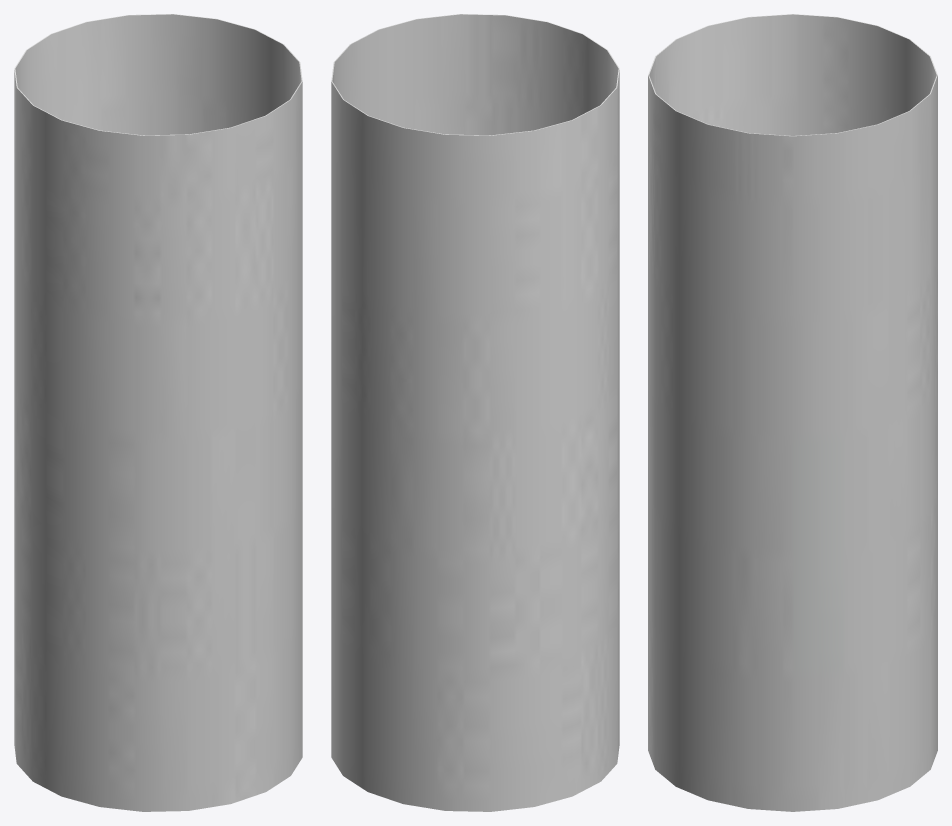
The model's file is whitepipe.obj.
3 renders of one model, left to right at view 1: azimuth 30°, elevation 25°; view 2: azimuth 150°, elevation 25°; view 3: azimuth 270°, elevation 25°, orthographic.
Parts seen in each view (by area): view 1: pPipe1; view 2: pPipe1; view 3: pPipe1.
Boxes of the visible parts, x1,y1,x2,y2 form: pPipe1: (14,14,302,811); pPipe1: (331,14,619,811); pPipe1: (648,14,937,811).
Size of the model in its own units: 2.74 by 7.05 by 2.74.
1 material, 1 textured.
